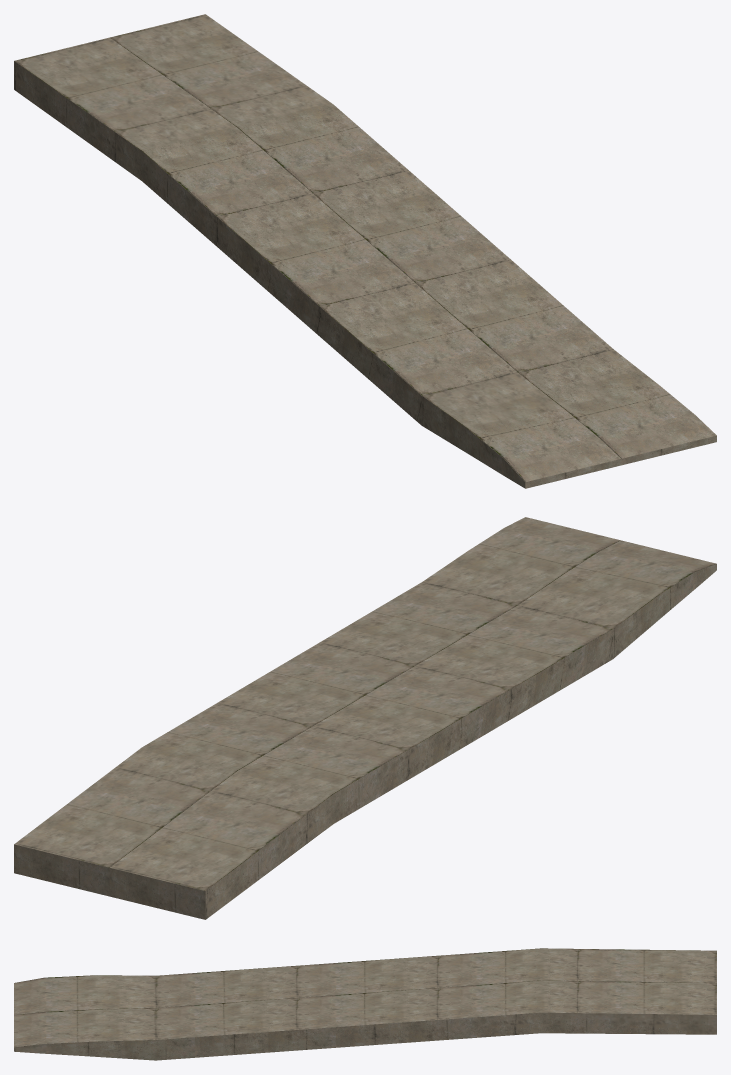
Rendered from RoadWalkwayDouble.fbx.
3 views of the same model, one above another, from view 1: azimuth 30°, elevation 25°; view 2: azimuth 150°, elevation 25°; view 3: azimuth 270°, elevation 25° (orthographic). The views are drawn at different scales.
Visible parts, largest first — view 1: RoadWalkwayDouble; view 2: RoadWalkwayDouble; view 3: RoadWalkwayDouble.
Boxes of the visible parts, x1,y1,x2,y2 form: RoadWalkwayDouble: (14,14,716,488); RoadWalkwayDouble: (14,517,716,919); RoadWalkwayDouble: (14,948,716,1060).
Bounding box in the file's own units: 200 × 69.64 × 925.
